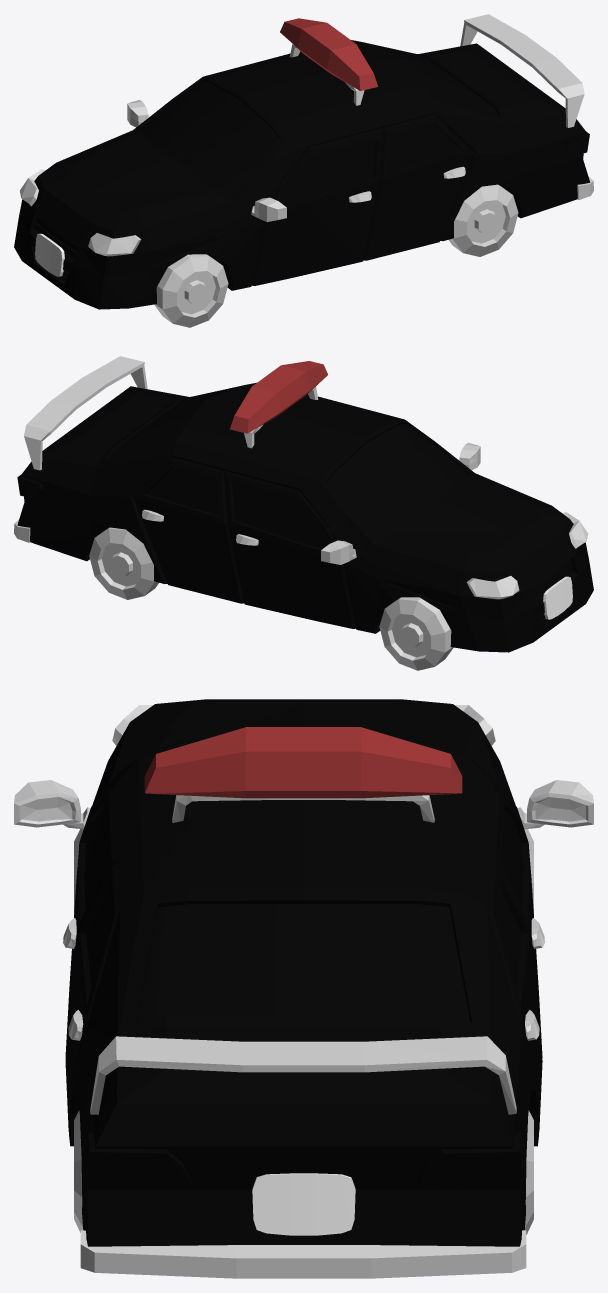
The model's file is SM_car_police.fbx.
3 renders of one model, top to bottom at view 1: azimuth 30°, elevation 25°; view 2: azimuth 150°, elevation 25°; view 3: azimuth 270°, elevation 25°, orthographic. The views are drawn at different scales.
Parts seen in each view (by area): view 1: Box180; view 2: Box180; view 3: Box180.
Boxes of the visible parts, x1,y1,x2,y2 form: Box180: [14, 14, 593, 327]; Box180: [14, 356, 593, 670]; Box180: [14, 699, 593, 1278].
Bounding box in the file's own units: 174 × 67.84 × 88.85.
